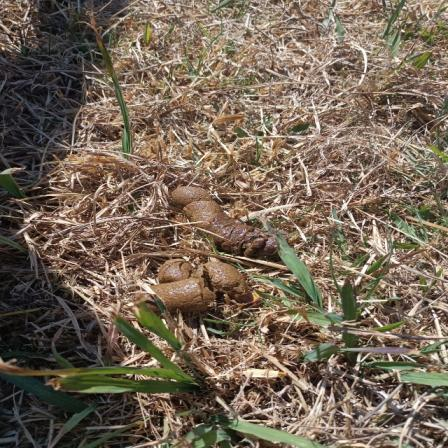dog-poop: (174, 182, 286, 250), (150, 257, 252, 316)
